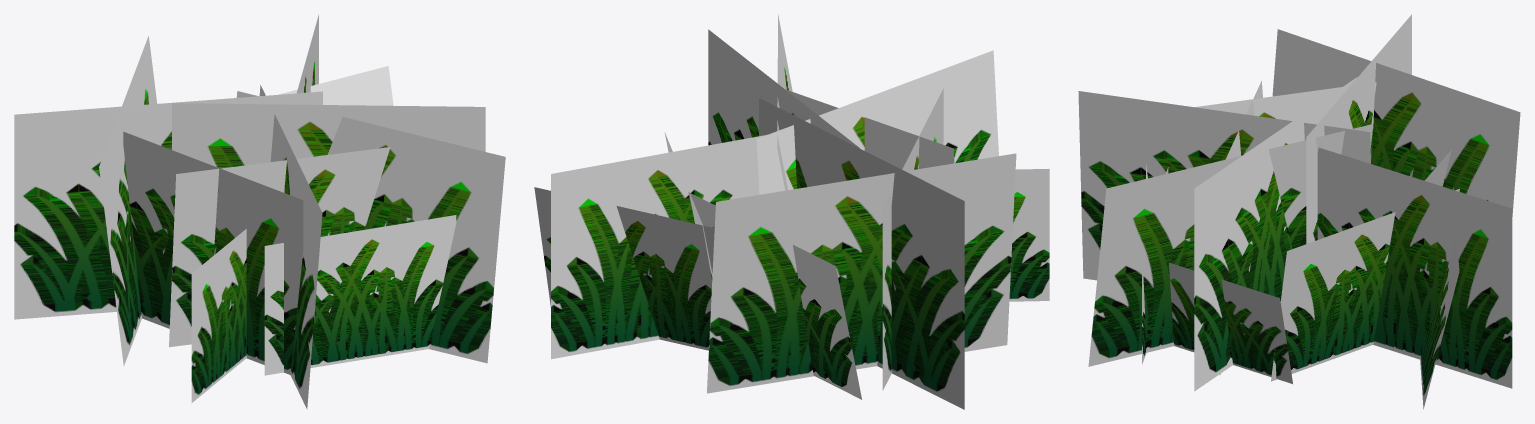
File: mid_grass_08.gltf
3 views of the same model, side by side, from view 1: azimuth 30°, elevation 25°; view 2: azimuth 150°, elevation 25°; view 3: azimuth 270°, elevation 25° (orthographic). The views are drawn at different scales.
Parts seen in each view (by area): view 1: default; view 2: default; view 3: default.
Boxes of the visible parts, left/top/right/bottom form: default: left=14, top=14, right=505, bottom=409; default: left=534, top=14, right=1049, bottom=409; default: left=1078, top=14, right=1520, bottom=409.
Size of the model in its own units: 1.16 by 0.5771 by 1.13.
1 material, 1 textured.
